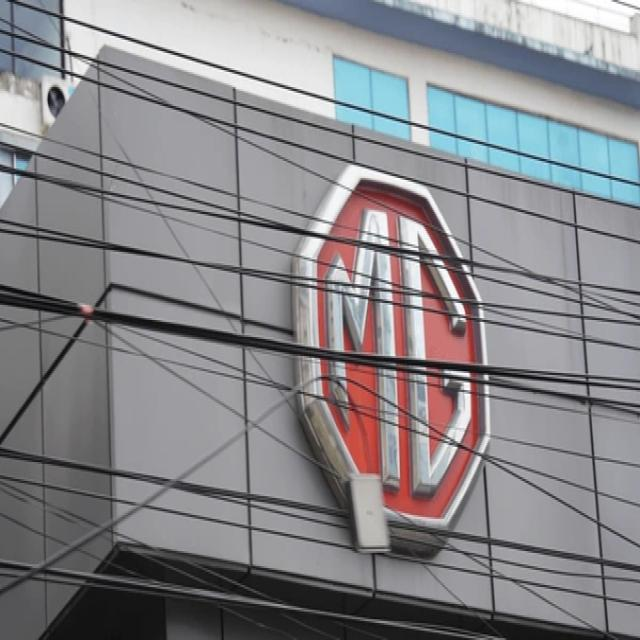mg: (288, 163, 503, 572)
